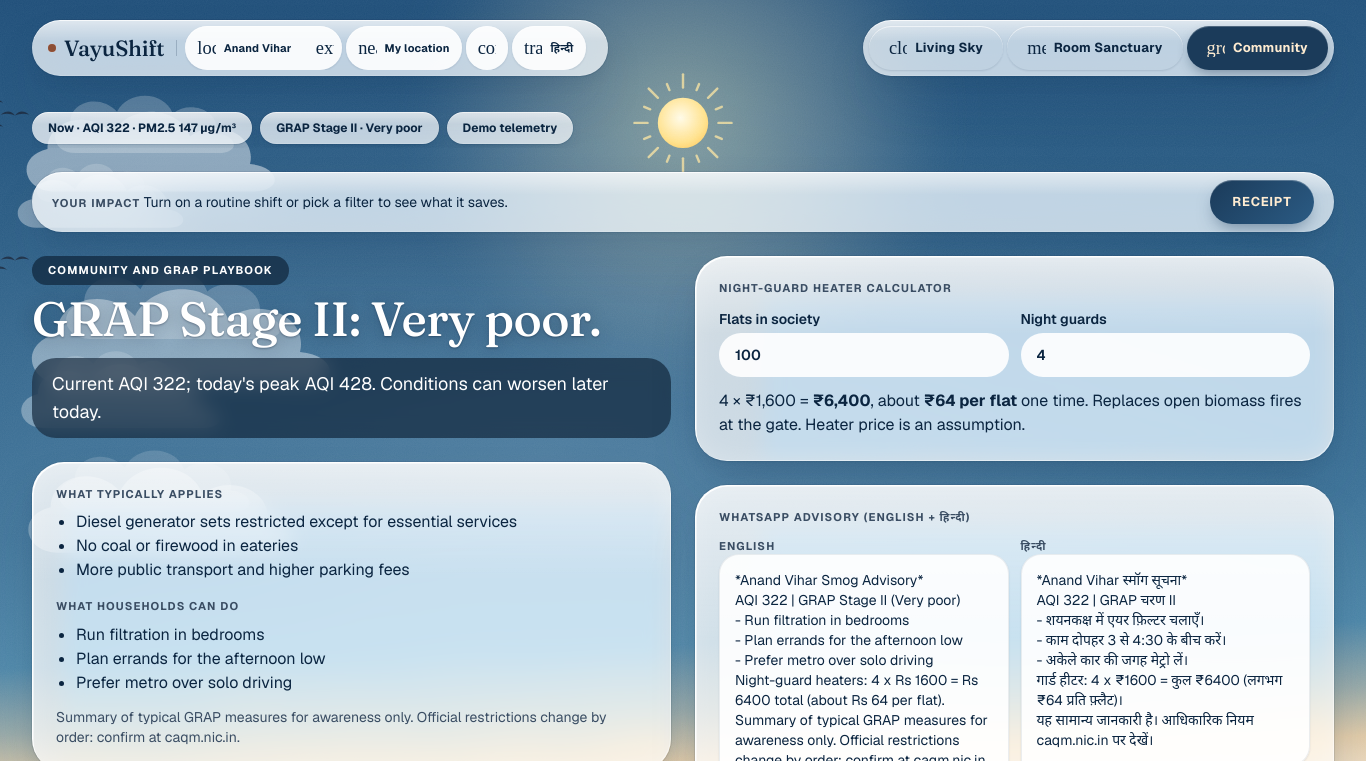
Test case: city picker › tells visitors outside Delhi-NCR that GRAP stages are only a reference for them
Expected: the text "GRAP is the Delhi-NCR action plan" is not shown
Select "Chennai" in the dropdown named "City" at (266, 48), box 224,40 -> 308,56
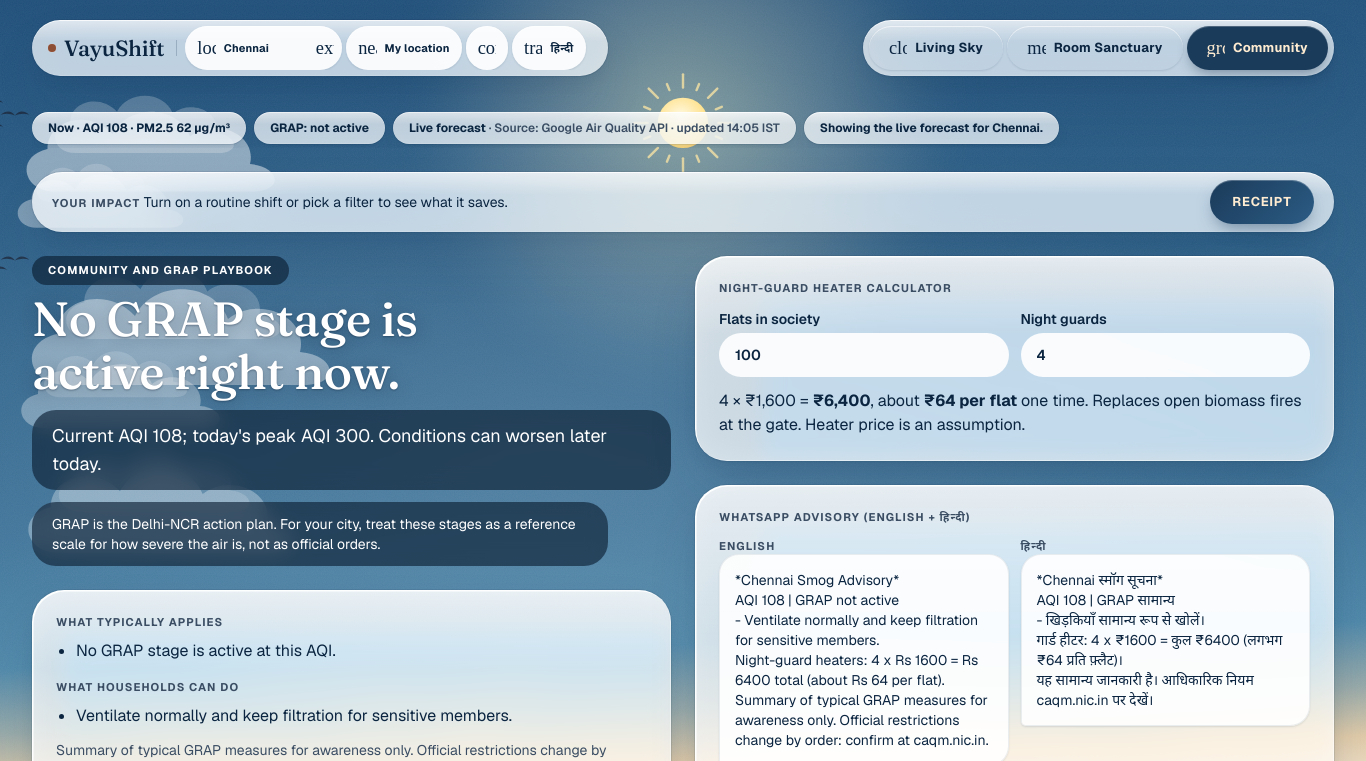
Now the text "GRAP is the Delhi-NCR action plan" is shown, box 52,515 -> 576,553
